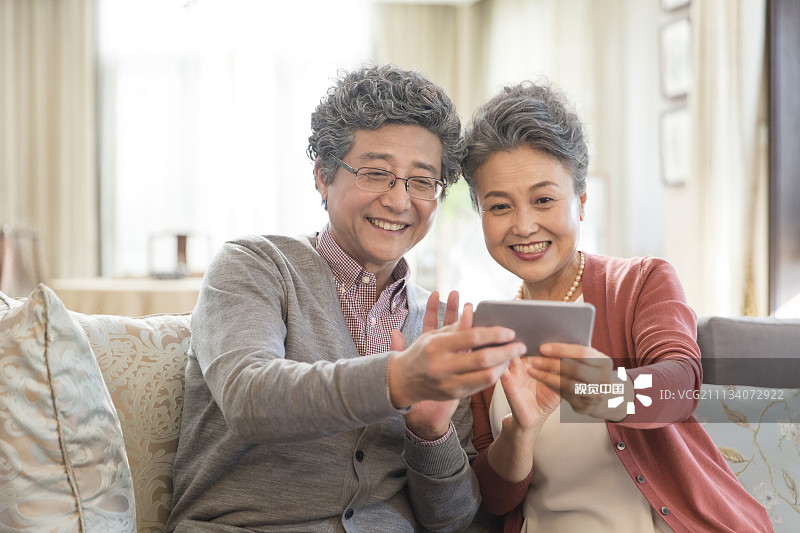reading: (405, 295, 625, 440)
